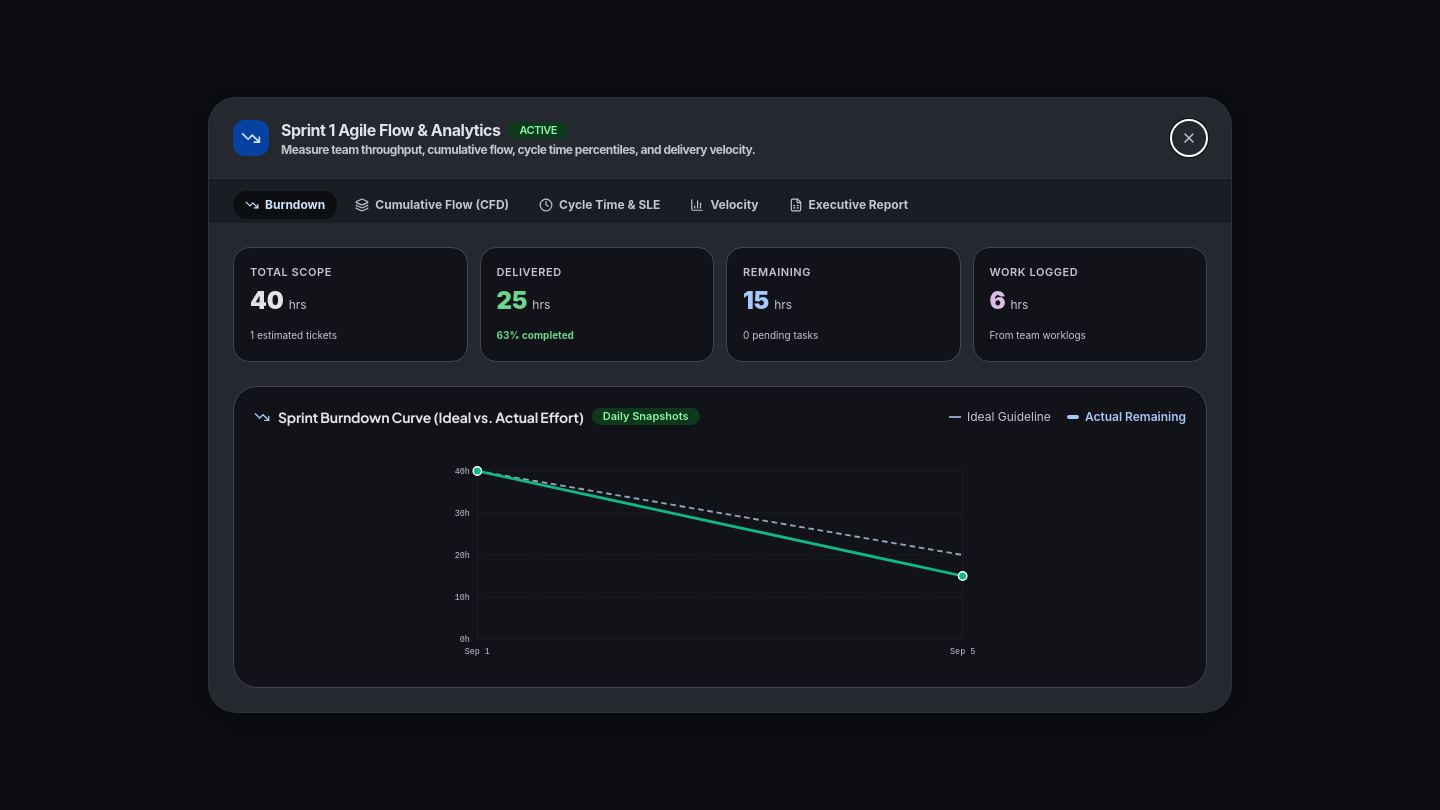
Test: SprintAnalyticsModal › switches to Executive Report tab and renders DataTable
The image size is (1440, 810).
Press the mouse on the tab "Executive Report": (848, 205) [777,191,920,219]
Press Enter in the tab "Executive Report", box [777,191,920,219]
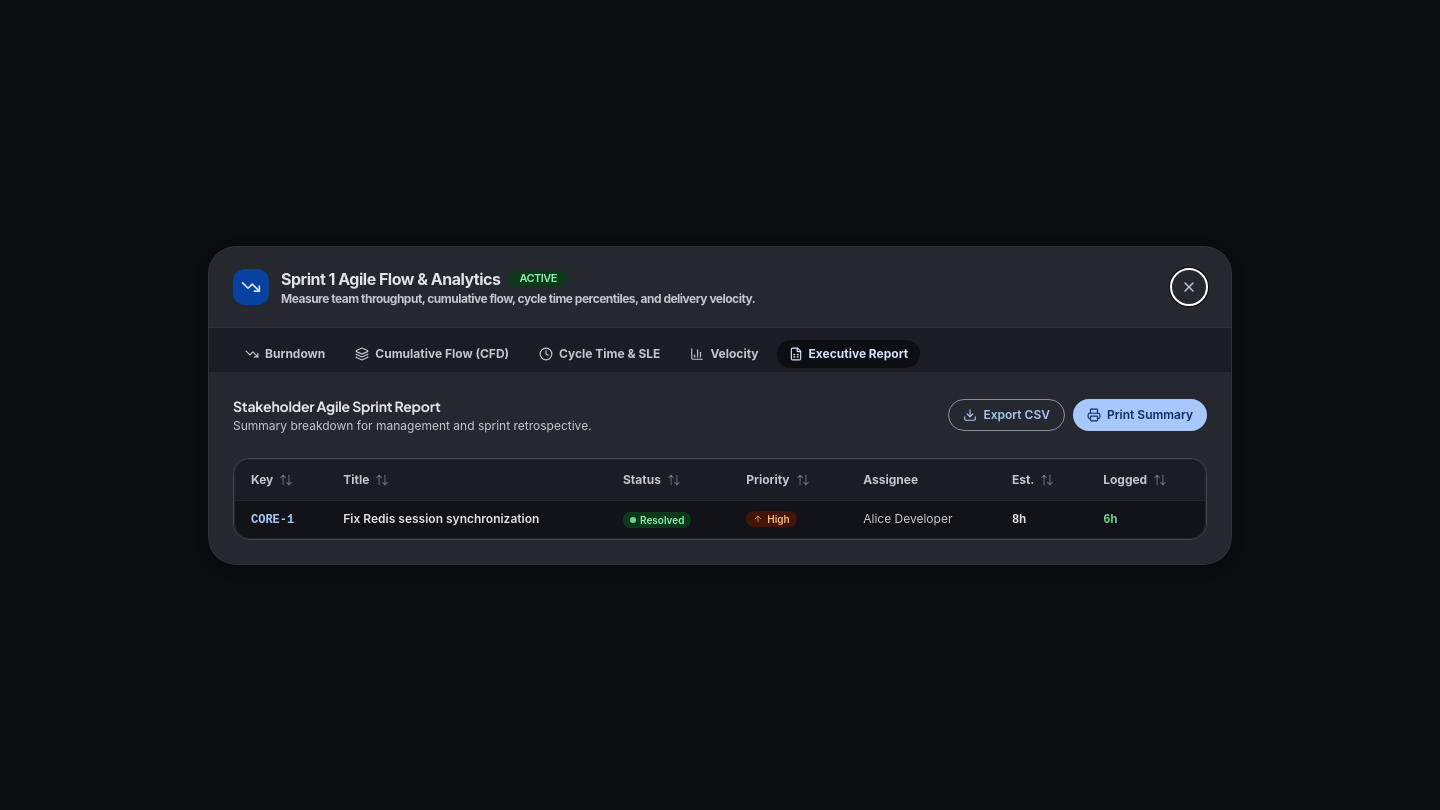
Result: the heading "Stakeholder Agile Sprint Report" is shown at [233,396,440,414]
Result: the text "CORE-1" is shown at [251,512,294,526]
Result: the text "Fix Redis session synchronization" is shown at [343,511,539,526]
